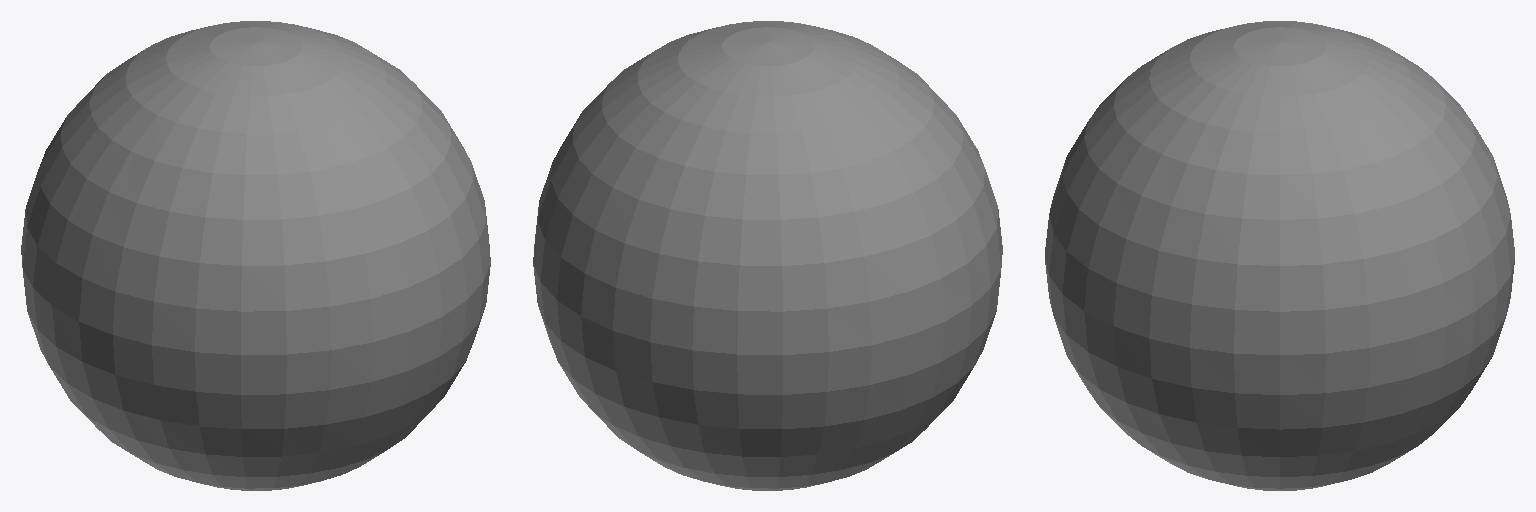
Rendered from Esfera2.obj.
3 renders of one model, left to right at view 1: azimuth 30°, elevation 25°; view 2: azimuth 150°, elevation 25°; view 3: azimuth 270°, elevation 25°, orthographic.
Parts seen in each view (by area): view 1: Sphere002; view 2: Sphere002; view 3: Sphere002.
Part boxes in pixels (x1,y1,x2,y2): Sphere002: (21,21,490,490); Sphere002: (533,21,1002,490); Sphere002: (1045,21,1514,490).
Size of the model in its own units: 0.2816 by 0.2816 by 0.2816.